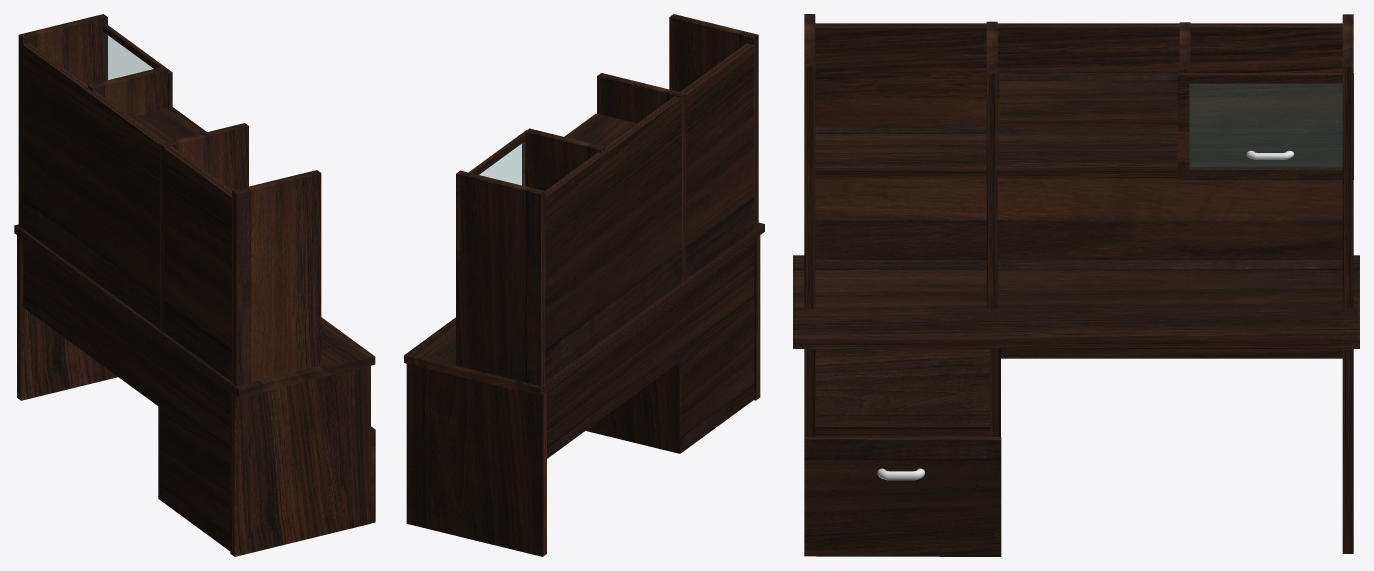
Rendered from 3D Desk.fbx.
The picture shows the model from 3 angles, left to right: view 1: azimuth 30°, elevation 25°; view 2: azimuth 150°, elevation 25°; view 3: azimuth 270°, elevation 25°; orthographic projection. The views are drawn at different scales.
Parts seen in each view (by area): view 1: pCube76; view 2: pCube76; view 3: pCube76.
Part boxes in pixels (x1,y1,x2,y2): pCube76: (14, 14, 375, 556); pCube76: (404, 14, 764, 556); pCube76: (793, 14, 1359, 556).
Bounding box in the file's own units: 6.67 × 15.62 × 17.54.
Materials: 5 (2 with a texture image).
